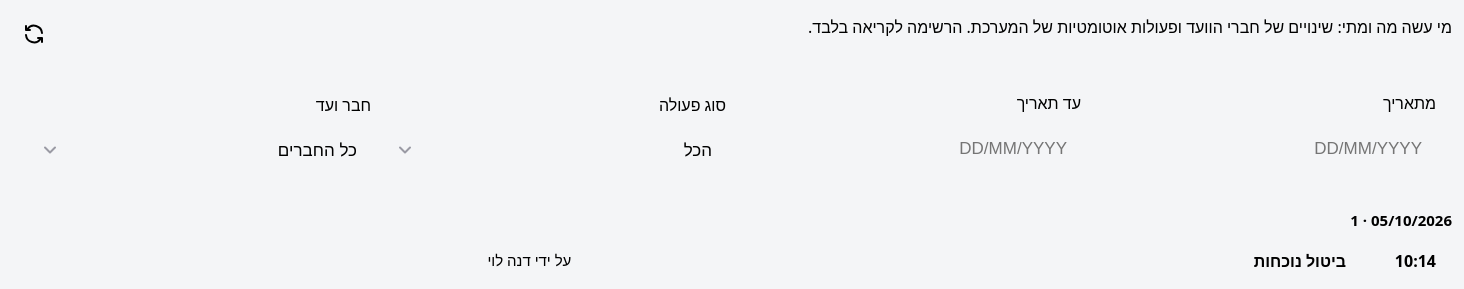
Test: the filters › shows no rows of the old filter under the new one while the new answer is on its way
Expected: the text "ביטול נוכחות" is shown, [1254,250,1346,272]
Select "נקודות" in the dropdown labelled "סוג פעולה" at (554, 150), box [383,124,726,176]
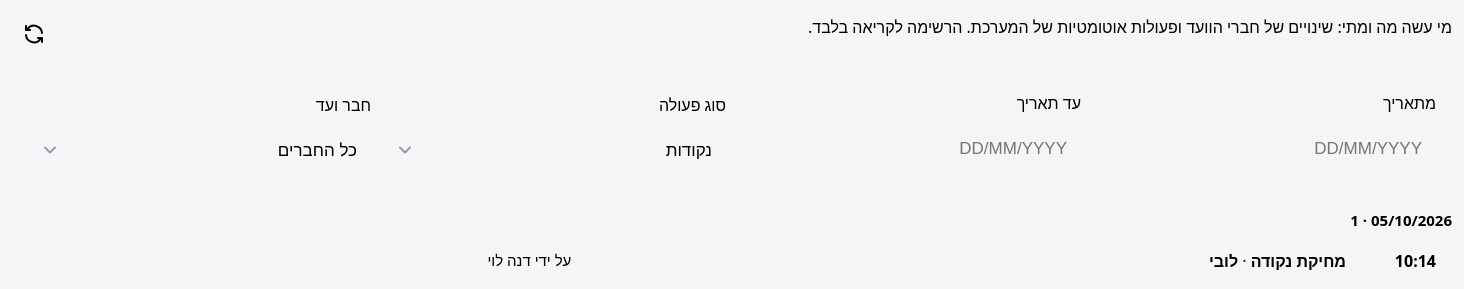
Result: the text "ביטול נוכחות" is gone
Result: the text "מחיקת נקודה" is shown at [1251,250,1346,272]
